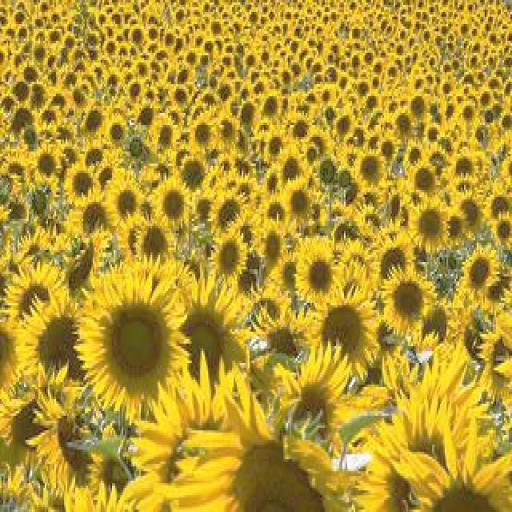sunflower: (178, 401, 352, 512), (77, 264, 187, 414), (363, 399, 493, 512), (34, 368, 115, 512), (173, 262, 253, 406), (18, 296, 100, 404), (312, 293, 378, 385), (294, 231, 350, 303), (382, 274, 434, 339), (366, 231, 418, 288), (204, 190, 250, 240), (464, 240, 498, 306), (408, 197, 450, 250), (76, 188, 118, 240), (208, 230, 246, 284), (280, 182, 318, 230), (258, 221, 290, 277), (109, 178, 144, 228), (156, 178, 190, 228), (350, 149, 390, 190), (178, 152, 211, 200), (454, 190, 485, 231), (485, 180, 512, 226), (406, 161, 440, 197), (189, 116, 219, 156), (30, 147, 61, 185), (450, 149, 480, 183), (264, 123, 290, 161), (406, 89, 430, 125), (493, 211, 512, 255), (8, 77, 32, 108)
